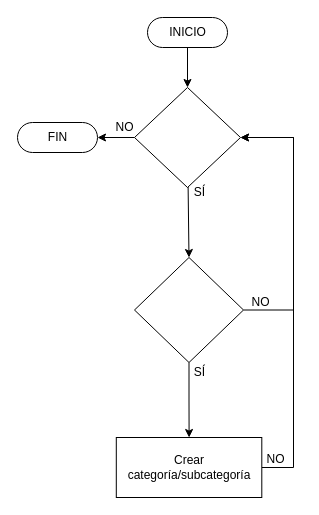
This 319x515 diagram has some shape labels left out. The box of each missing label's shape, as (x1, y1, x2, y2) in pixels:
¿Quedan categorías en el datastet?: (134, 86, 240, 188)
¿Quedan subcategorías?: (134, 256, 244, 362)
